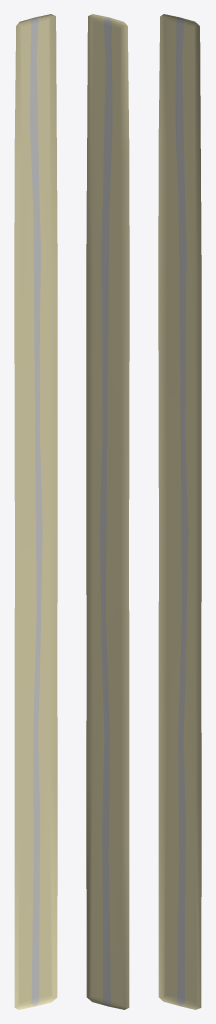
File: ui_slider_vertical_bg.glb
3 renders of one model, left to right at view 1: azimuth 30°, elevation 25°; view 2: azimuth 150°, elevation 25°; view 3: azimuth 330°, elevation 25°, orthographic.
Visible parts, largest first — view 1: Cube; view 2: Cube; view 3: Cube.
Boxes of the visible parts, box(x1,y1,x2,y2) form: Cube: box(14, 14, 57, 1009); Cube: box(86, 14, 129, 1009); Cube: box(158, 14, 201, 1009).
Size of the model in its own units: 0.0914 by 2 by 0.00375.
